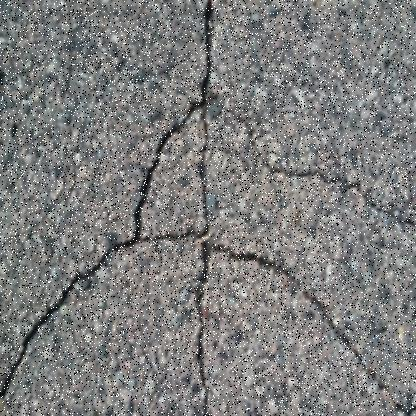Cracks: (0, 224, 415, 415), (133, 96, 416, 244), (188, 0, 224, 416)
